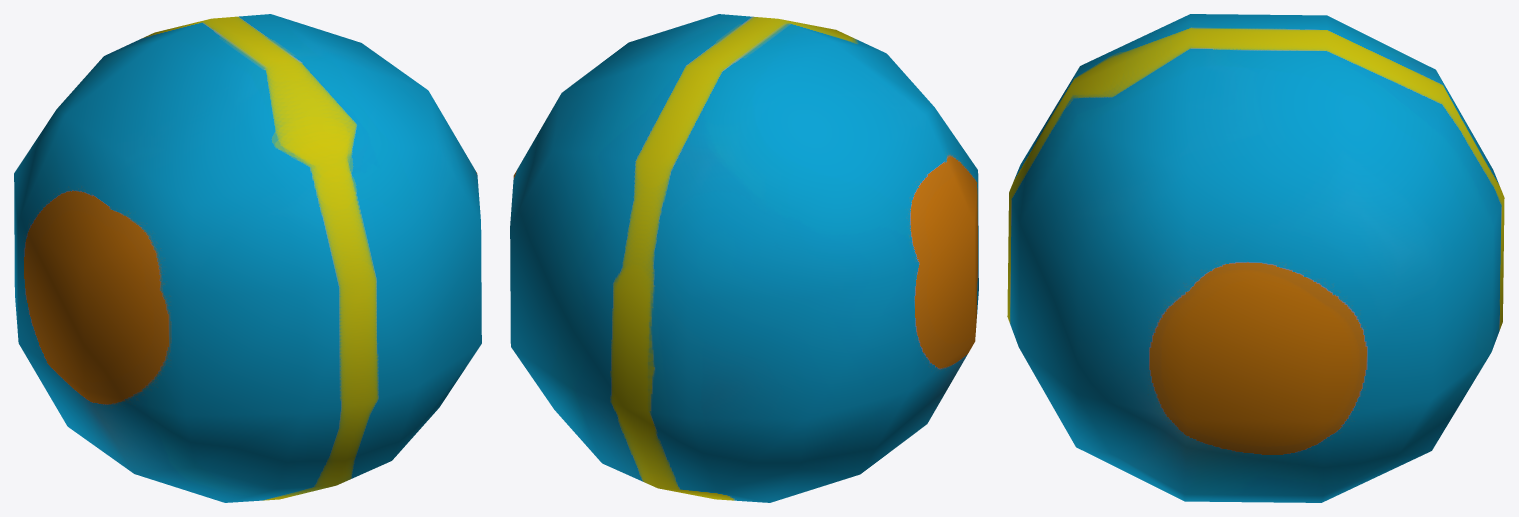
File: bigBAll.fbx
The picture shows the model from 3 angles, left to right: view 1: azimuth 30°, elevation 25°; view 2: azimuth 150°, elevation 25°; view 3: azimuth 270°, elevation 25°; orthographic projection. The views are drawn at different scales.
Visible parts, largest first — view 1: pCube19; view 2: pCube19; view 3: pCube19.
Part boxes in pixels (bbox=[...]): pCube19: bbox=[14, 14, 481, 502]; pCube19: bbox=[510, 14, 978, 502]; pCube19: bbox=[1007, 14, 1504, 502].
Bounding box in the file's own units: 5.09 × 5.35 × 5.34.
1 material, 1 textured.
